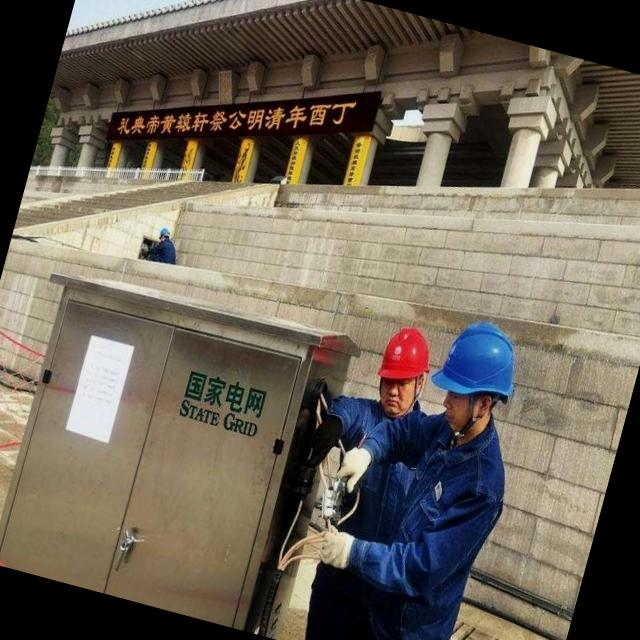helmet: (421, 310, 531, 426), (364, 321, 436, 412)
no-goggles: (371, 366, 416, 400)
no-vest: (382, 424, 497, 620)
